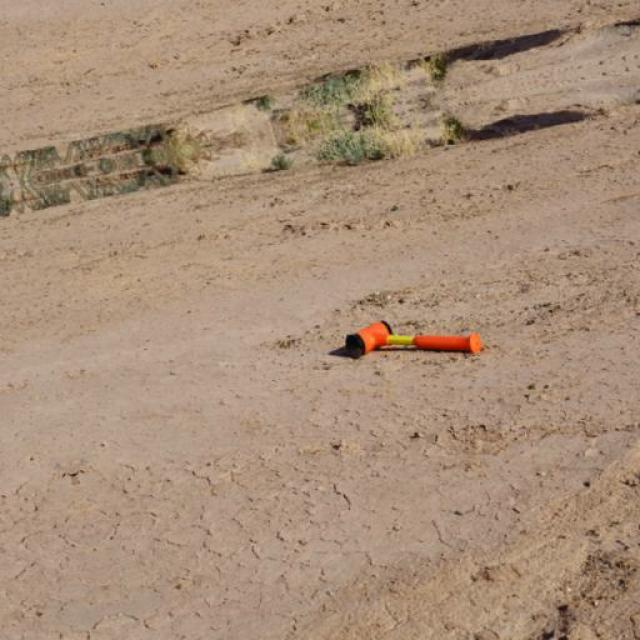mallet: (344, 319, 484, 356)
